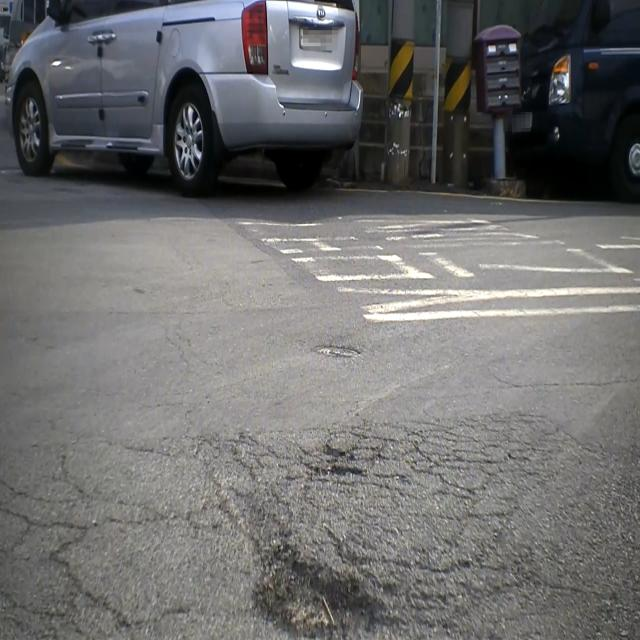Pothole: (245, 544, 408, 640), (301, 434, 372, 484)
